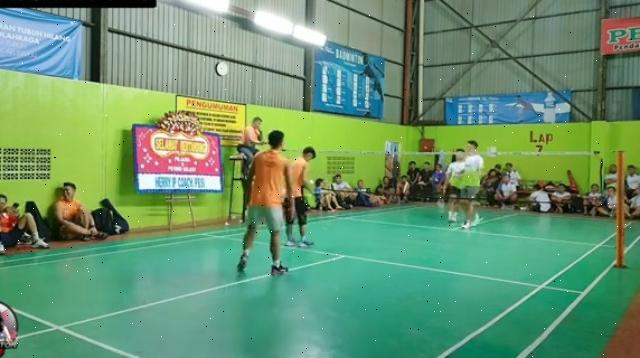Shuttlecock: (308, 180, 318, 186)
